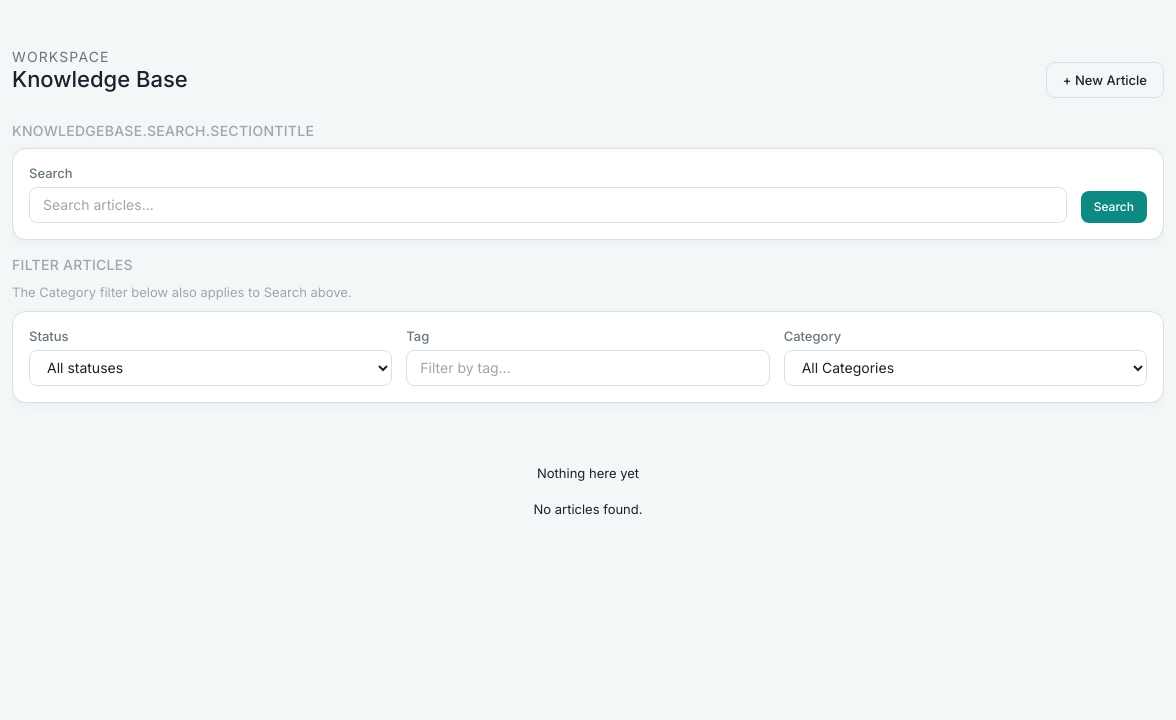
Test case: KnowledgeBaseManagementView › shows a no-results message when the search returns zero items
Type "zzzznomatch" into the search field with id "kb-search" at [548, 205], box [29,187,1067,223]
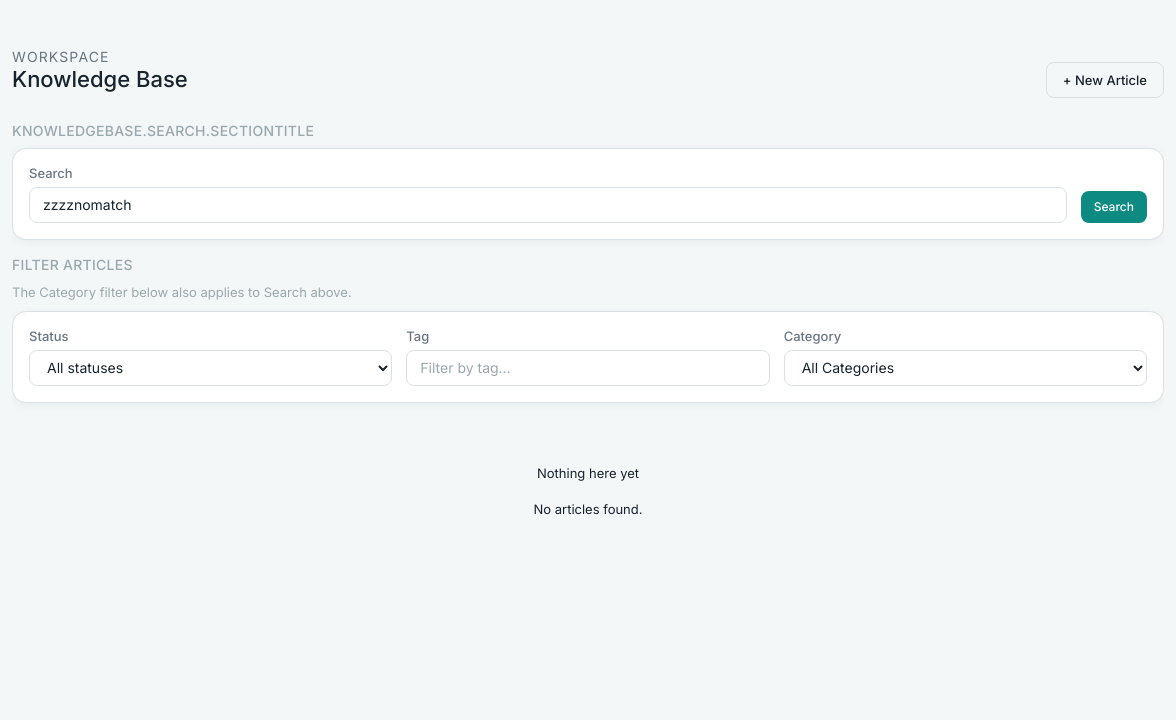
Submit the form with class "toolbar" showing "Search Search", box [12,148,1164,240]
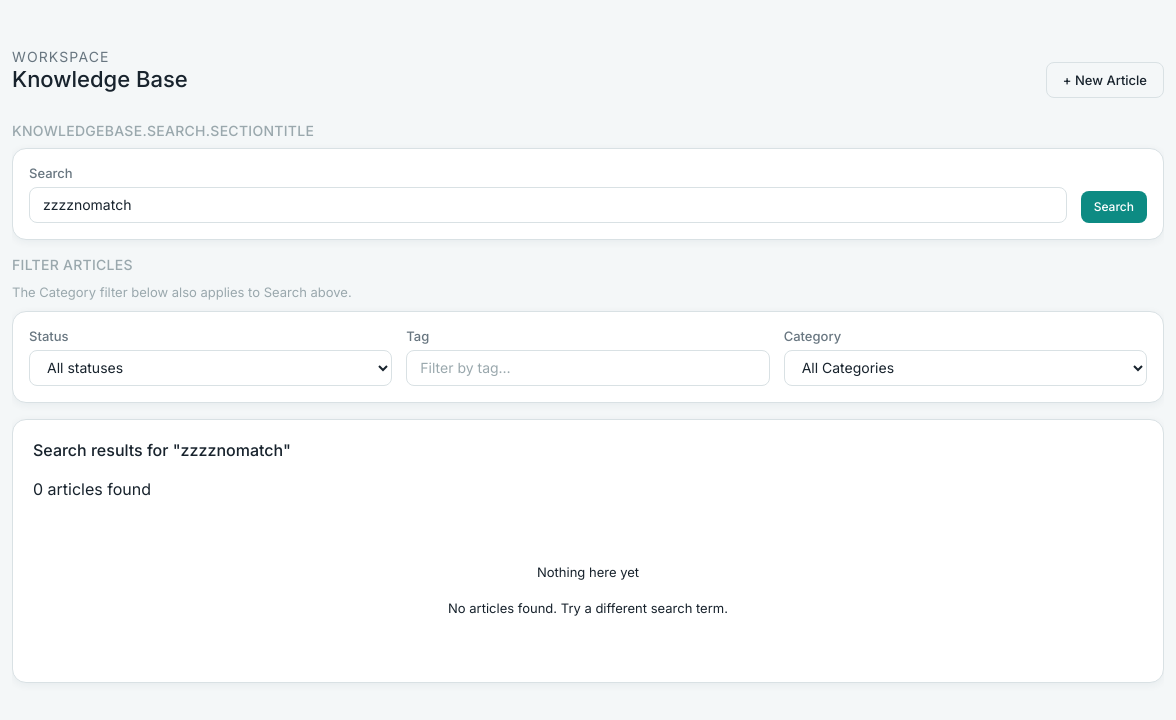
Expected: the text "No articles found. Try a different search term." is shown, [448,600,728,616]
